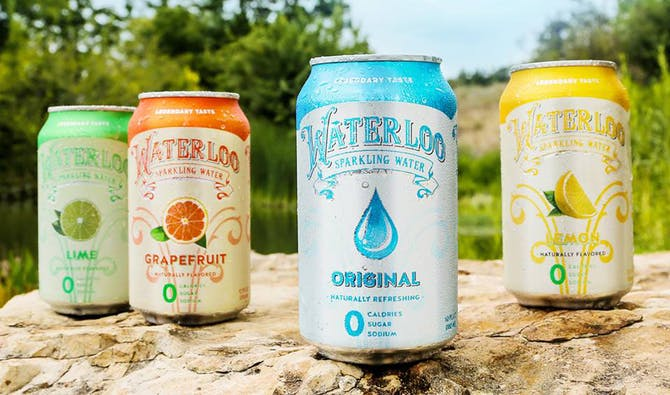can: (291, 53, 465, 367), (496, 58, 640, 313), (125, 88, 257, 329), (32, 101, 148, 321)
